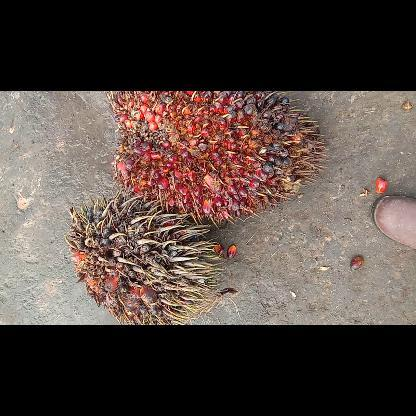TBS abnormal: (68, 193, 222, 323)
TBS masak: (106, 91, 326, 223)
